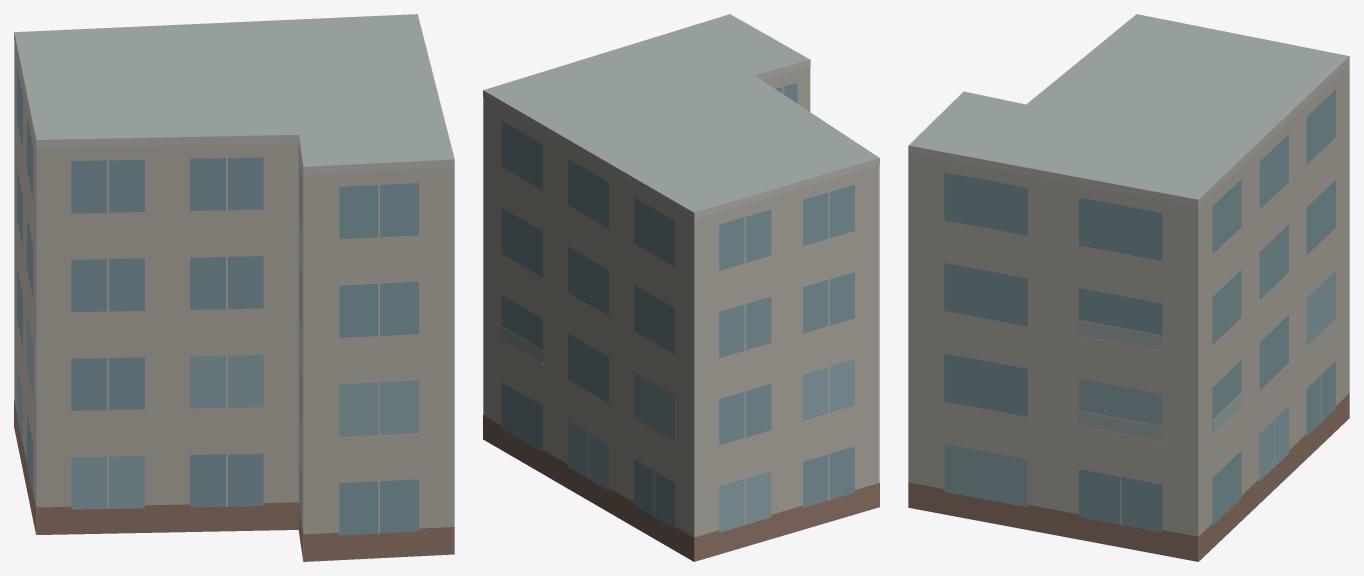
Rendered from survey-upis-32523940.glb.
The picture shows the model from 3 angles, left to right: view 1: azimuth 30°, elevation 25°; view 2: azimuth 150°, elevation 25°; view 3: azimuth 270°, elevation 25°; orthographic projection. The views are drawn at different scales.
Parts seen in each view (by area): view 1: survey-upis-32523940.tmp; view 2: survey-upis-32523940.tmp; view 3: survey-upis-32523940.tmp.
Part boxes in pixels (x1,y1,x2,y2): survey-upis-32523940.tmp: (14,14,454,561); survey-upis-32523940.tmp: (483,14,879,561); survey-upis-32523940.tmp: (908,14,1349,561).
Bounding box in the file's own units: 13.43 × 12.2 × 13.48.
